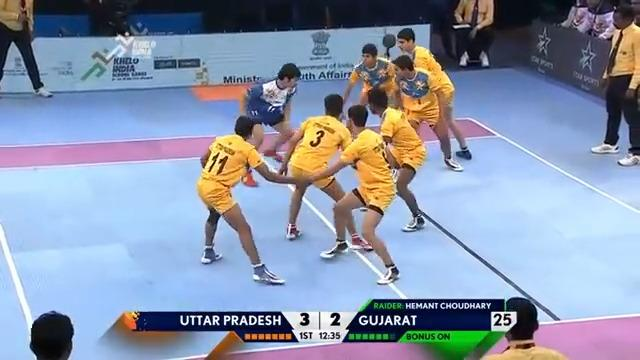Player: (193, 112, 315, 287), (305, 103, 405, 287), (397, 29, 475, 165), (388, 57, 452, 147), (351, 49, 387, 97)
Raider: (237, 62, 301, 186)
referee: (590, 4, 639, 166), (479, 296, 568, 359), (0, 0, 53, 98), (452, 0, 494, 67)
